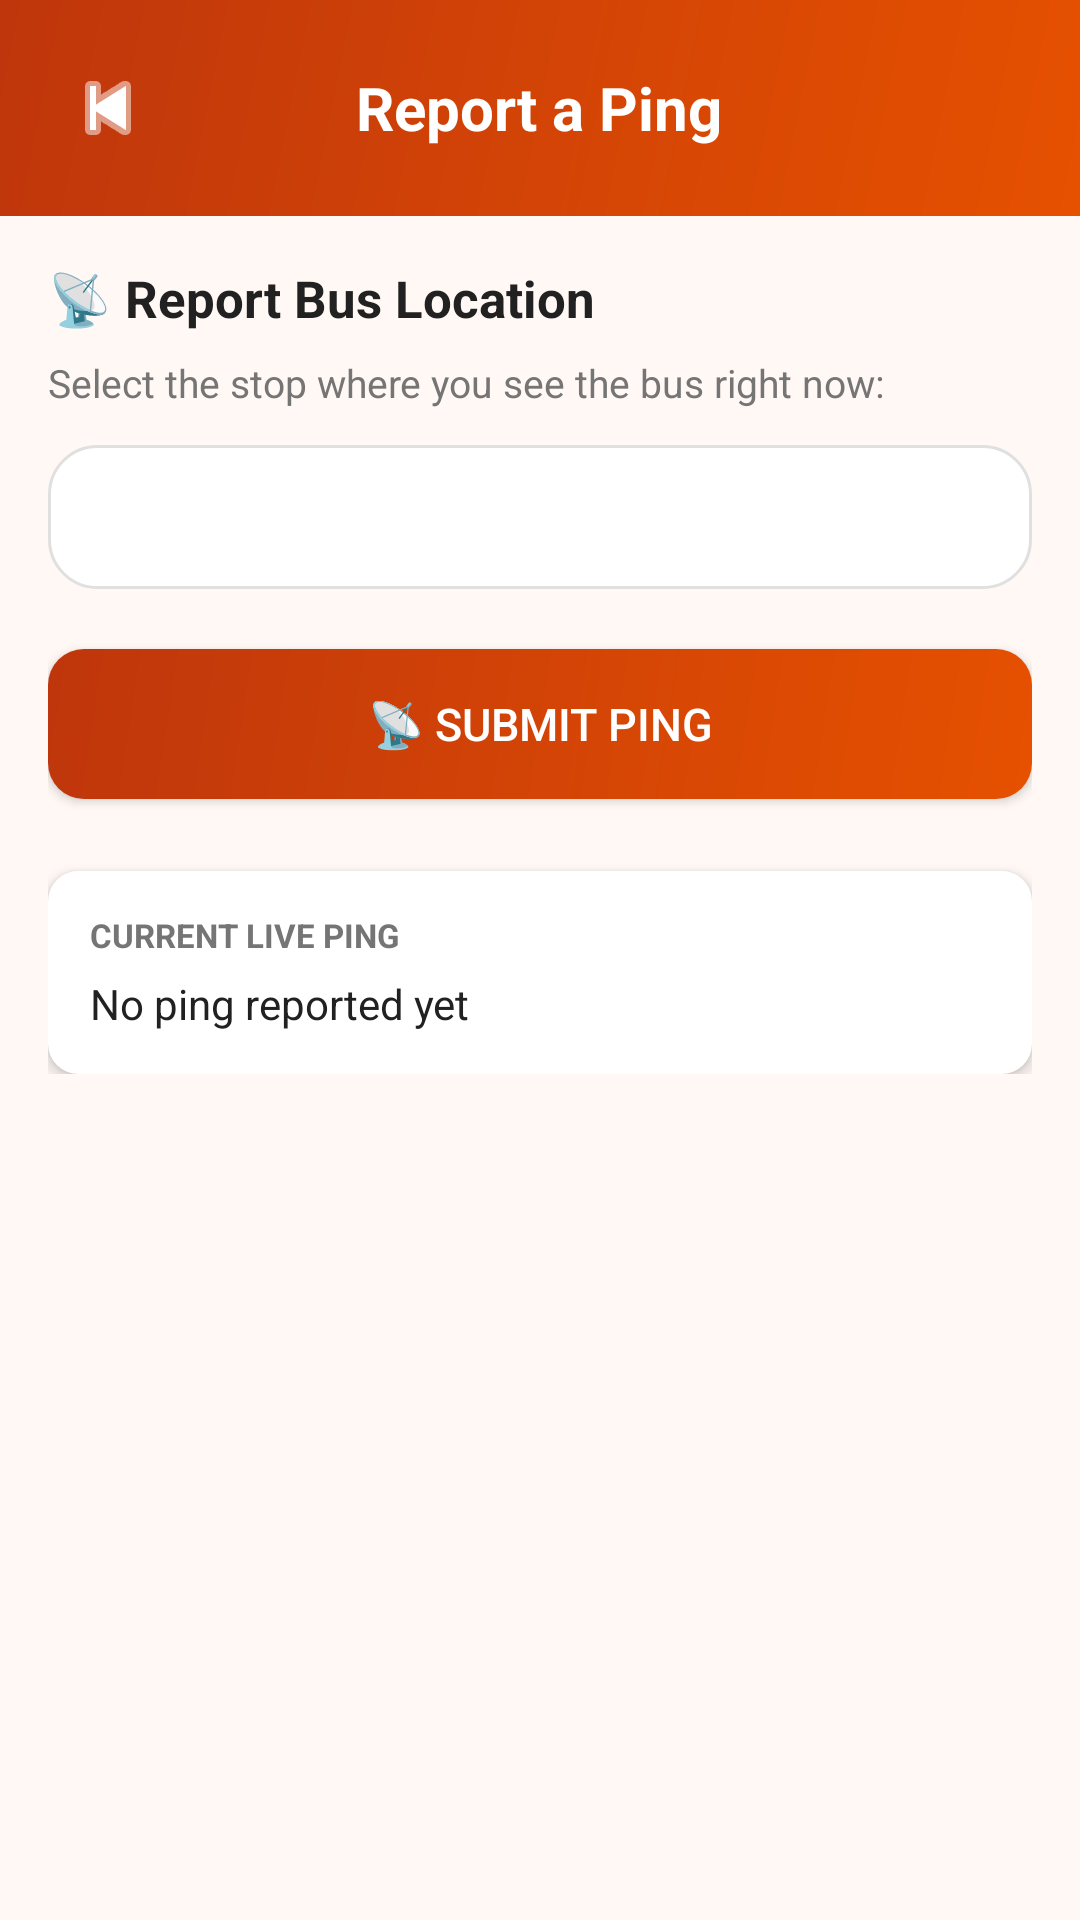

Where icons sit on this 1080 × 1920 app screen, as (x1, y1, x2, y2):
Back: (85, 81, 131, 135)
